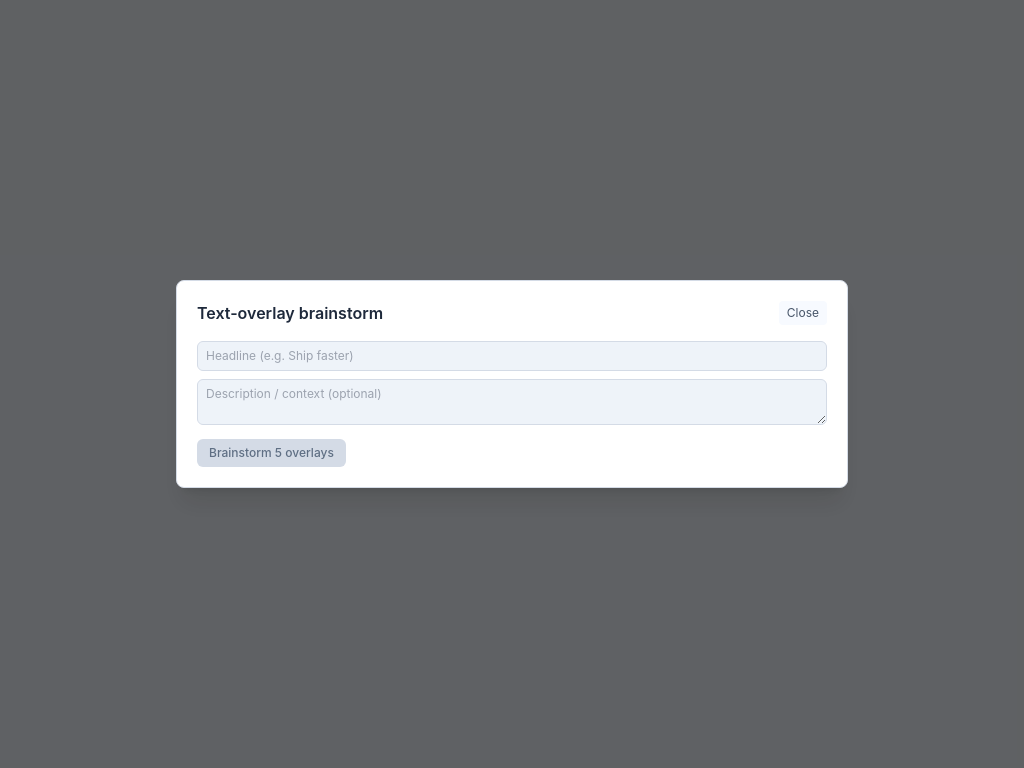
it: OverlayPickerModal › submits, parses 5 lines, and renders 5 cards
The width and height of the screenshot is (1024, 768).
Type "Ship faster" into the field with test id "overlay-headline-input" at (512, 356), box [197, 341, 827, 371]
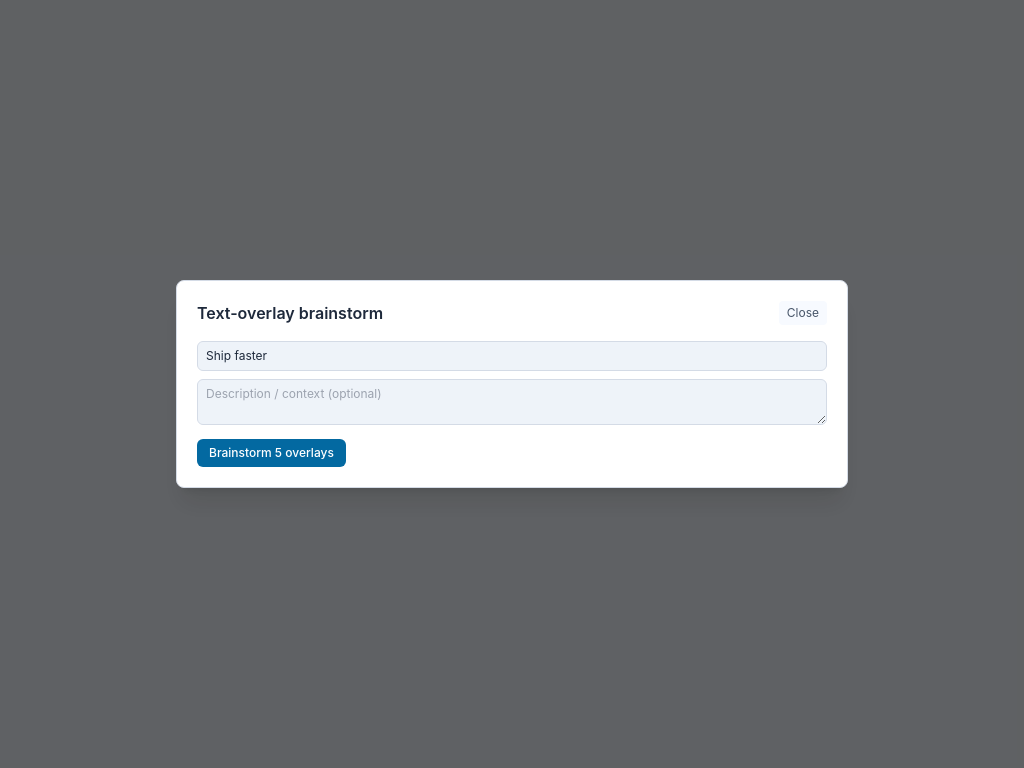
Click the button "Brainstorm 5 overlays" at (271, 453), box [197, 439, 346, 467]
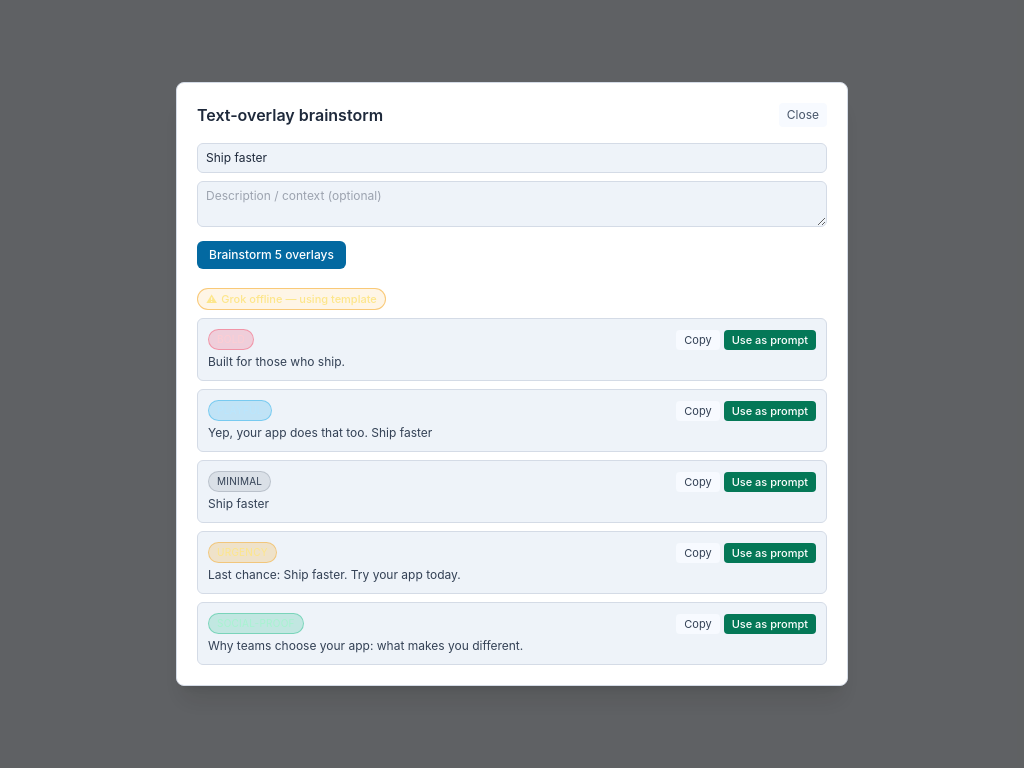
Now the list with test id "overlay-list" is shown, box [197, 318, 827, 665]
Now the list item with test id "overlay-card-0" is shown, box [197, 318, 827, 381]
Now the list item with test id "overlay-card-4" is shown, box [197, 602, 827, 665]
